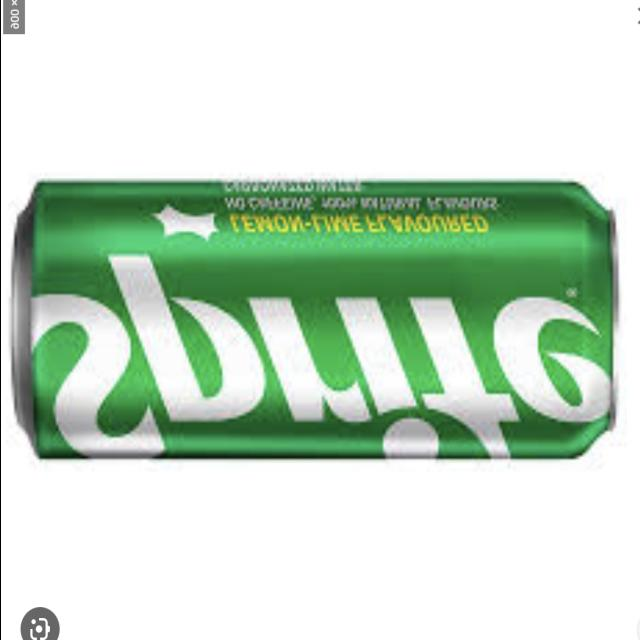can: (0, 138, 634, 508)
